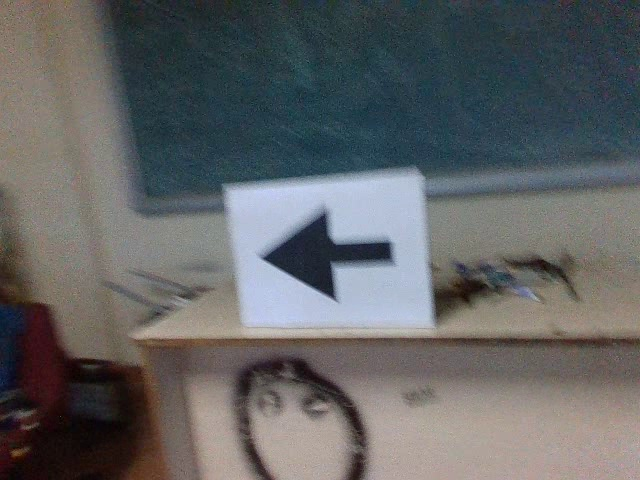Left: (253, 203, 401, 304)
